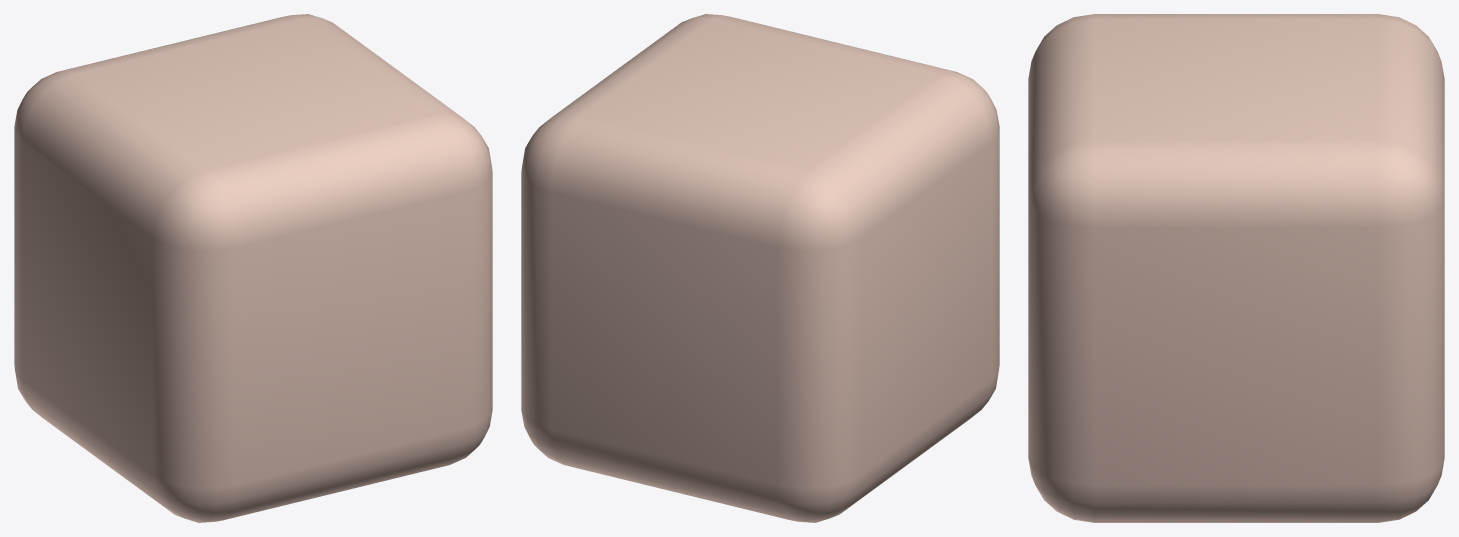
3 views of the same model, side by side, from view 1: azimuth 30°, elevation 25°; view 2: azimuth 150°, elevation 25°; view 3: azimuth 270°, elevation 25° (orthographic). The views are drawn at different scales.
Visible parts, largest first — view 1: Cube.001; view 2: Cube.001; view 3: Cube.001.
Part boxes in pixels (x1,y1,x2,y2): Cube.001: (14, 14, 492, 522); Cube.001: (521, 14, 999, 522); Cube.001: (1028, 14, 1444, 522).
Size of the model in its own units: 200 by 200 by 200.
